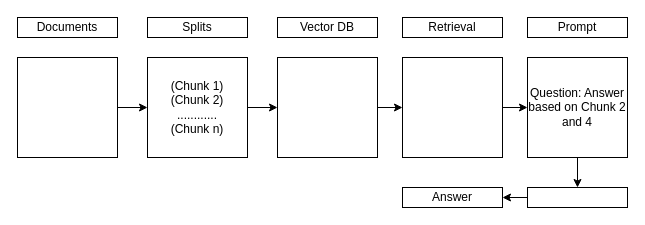
This 645x225 diagram has some shape labels left out. The shapes that lost their labels are listed below. From the top down, each one's centre as x and y in pixels, then its label:
point 67,107: (Generated From Different Sources)
point 327,107: Vectors Embeddings
point 452,107: Question (Chunk 2) (Chunk 4)
point 577,197: LLM
